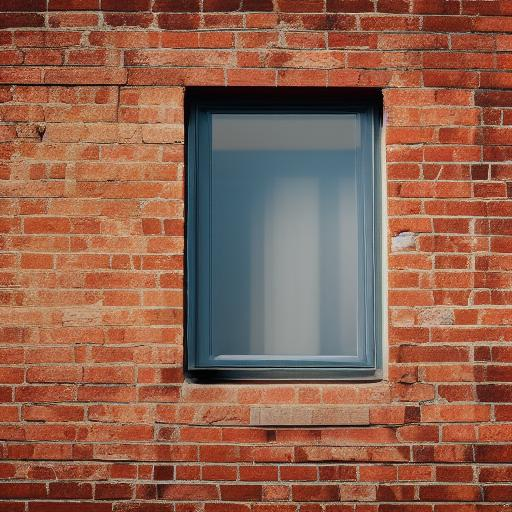Window: (178, 80, 398, 393)
